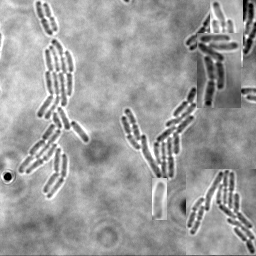Dividing: (34, 1, 52, 37), (41, 3, 57, 33)
Microcolony: (18, 40, 89, 199), (120, 87, 197, 181), (186, 169, 256, 255), (197, 33, 241, 108), (210, 0, 243, 67), (243, 1, 255, 56), (152, 178, 167, 220)
